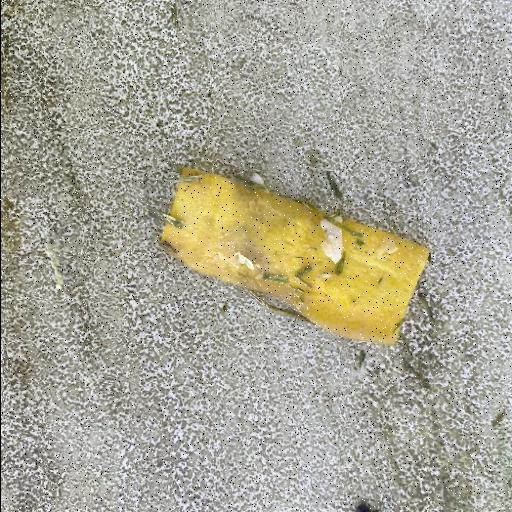Waste: (156, 165, 432, 347)
